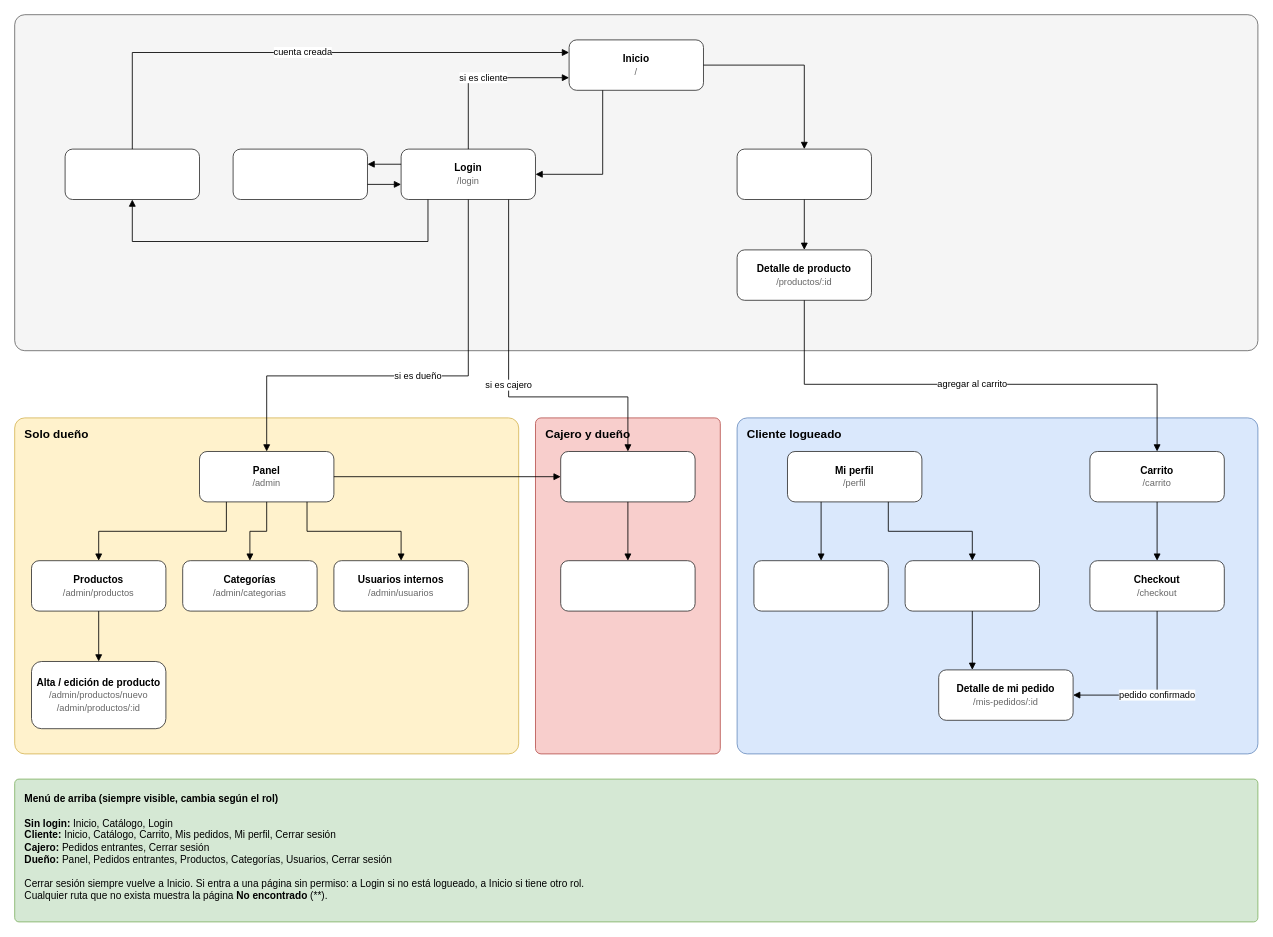
Some shapes in this 1273 by 937 pixel diagram are drawn without their labels. Here are the shapes that lost their labels. From the top down, the box of each, then its label:
(64, 148, 200, 200): Registro /registro
(232, 148, 368, 200): Recuperar contraseña /recuperar
(14, 14, 1258, 351): Público (sin login)
(736, 148, 872, 200): Catálogo /productos
(560, 451, 695, 502): Pedidos entrantes /admin/pedidos
(560, 560, 695, 611): Gestionar pedido /admin/pedidos/:id
(753, 560, 888, 611): Mis direcciones /perfil/direcciones
(904, 560, 1040, 611): Mis pedidos /mis-pedidos
